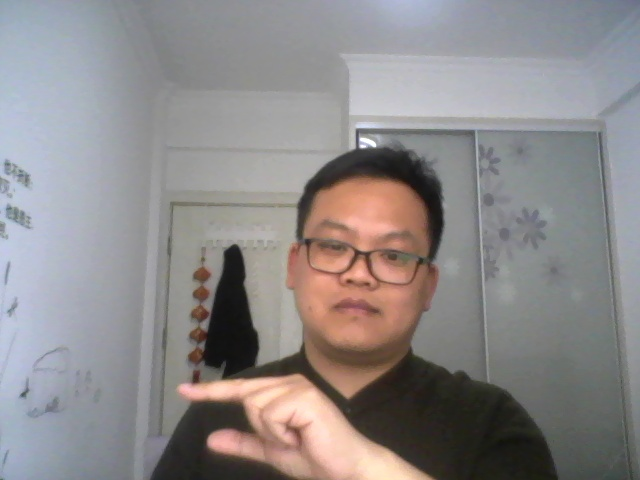No: (169, 370, 359, 479)
